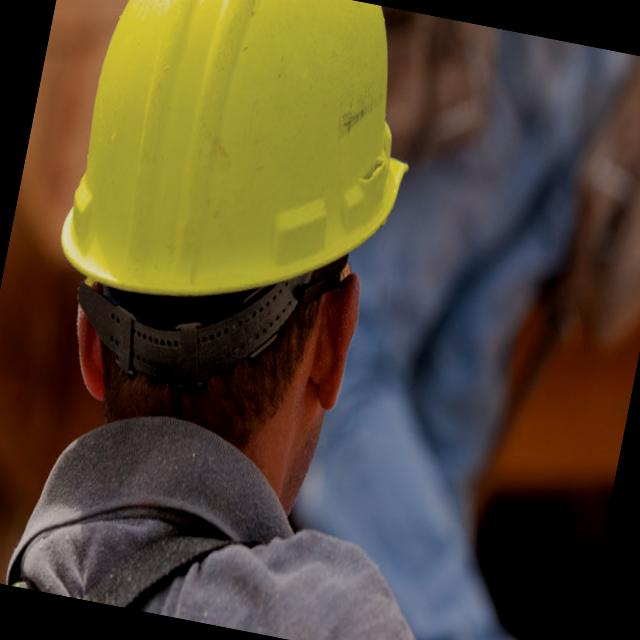helmet: (54, 0, 435, 327)
